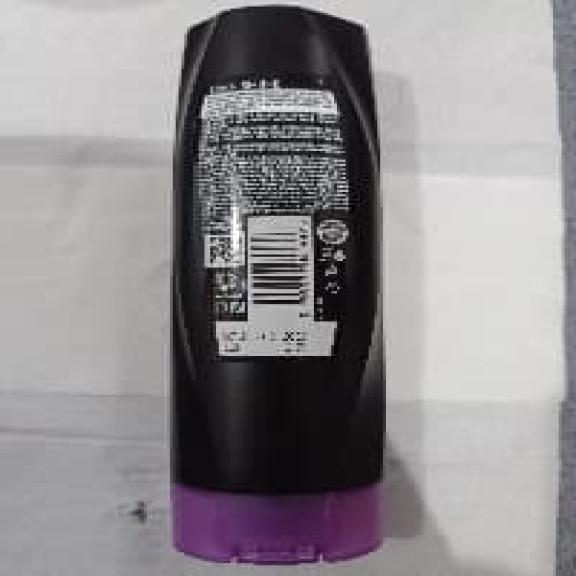Plastik: (166, 19, 396, 568)
